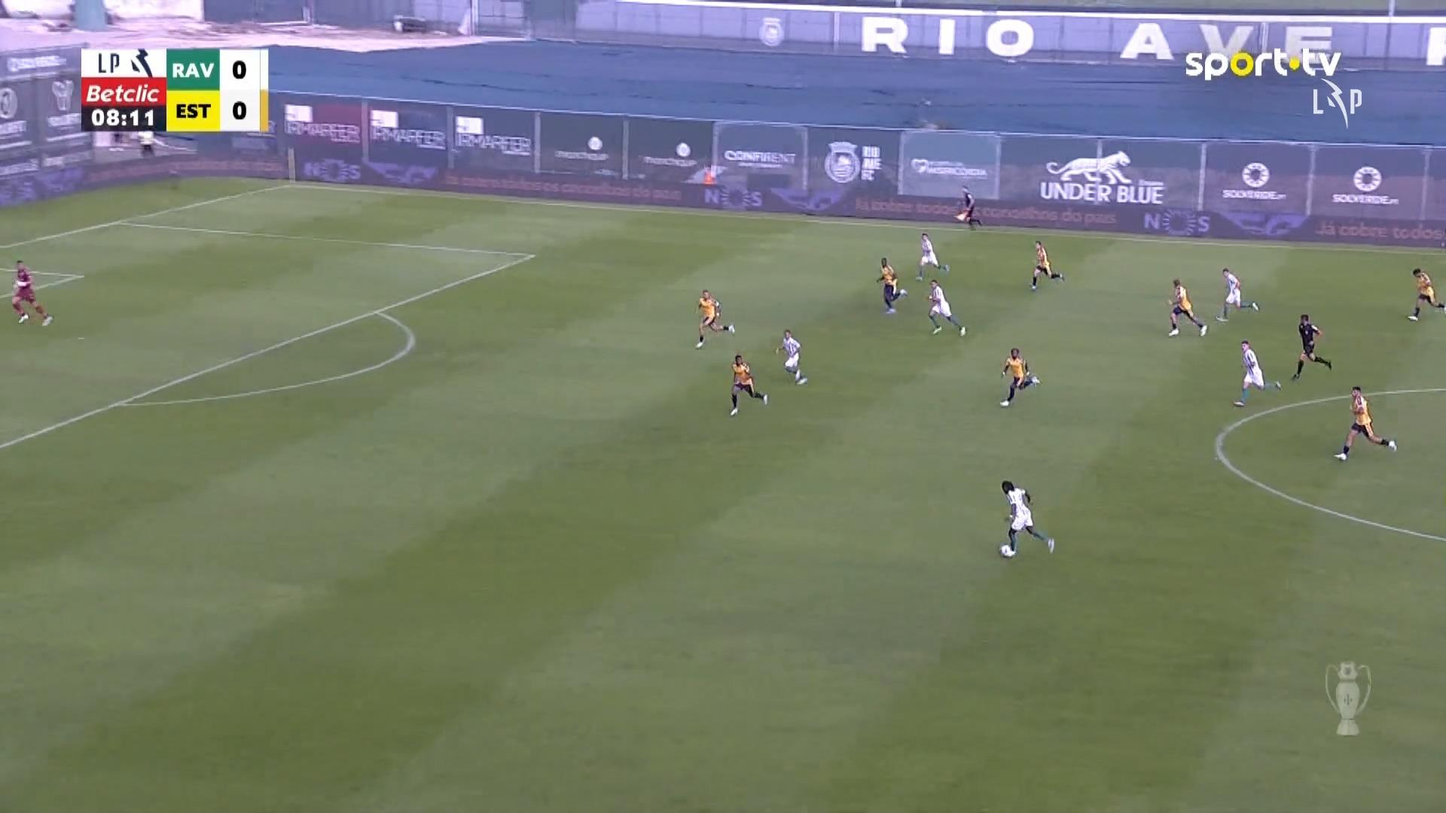ball: (999, 543, 1013, 558)
goalkeeper: (10, 258, 53, 326)
player: (1334, 385, 1397, 461), (998, 480, 1054, 558), (1232, 339, 1281, 406), (999, 346, 1041, 407), (1165, 277, 1207, 337), (694, 289, 735, 349), (728, 353, 767, 416), (1215, 266, 1259, 321), (925, 278, 966, 336), (1406, 266, 1444, 321), (774, 327, 807, 385), (1028, 239, 1064, 291), (876, 257, 907, 314), (915, 231, 949, 281)
referee: (1291, 312, 1332, 380), (953, 184, 981, 229)
